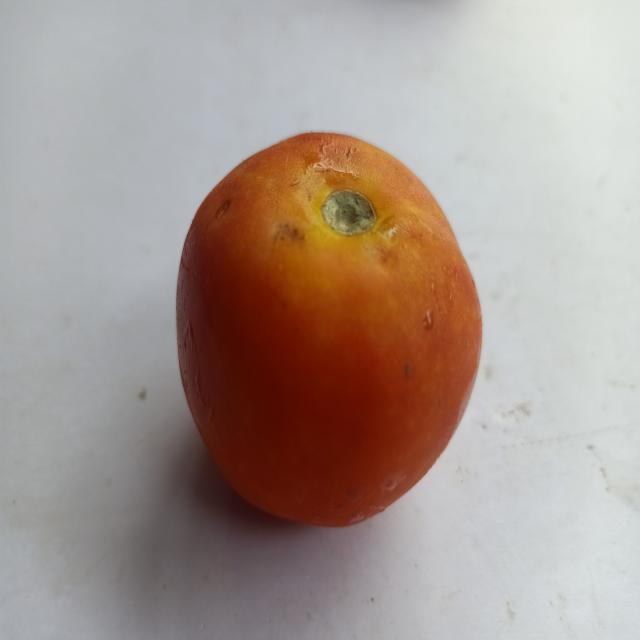Tomato: (141, 92, 510, 570)
